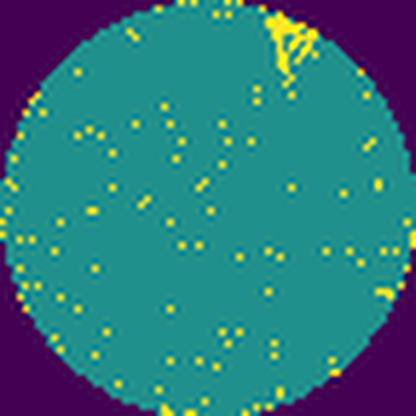Loc: (267, 12, 313, 88)
